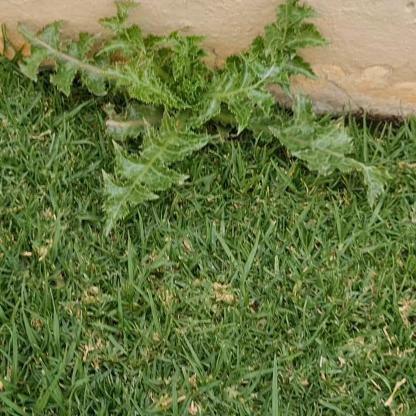Weeds: (18, 0, 395, 238)
